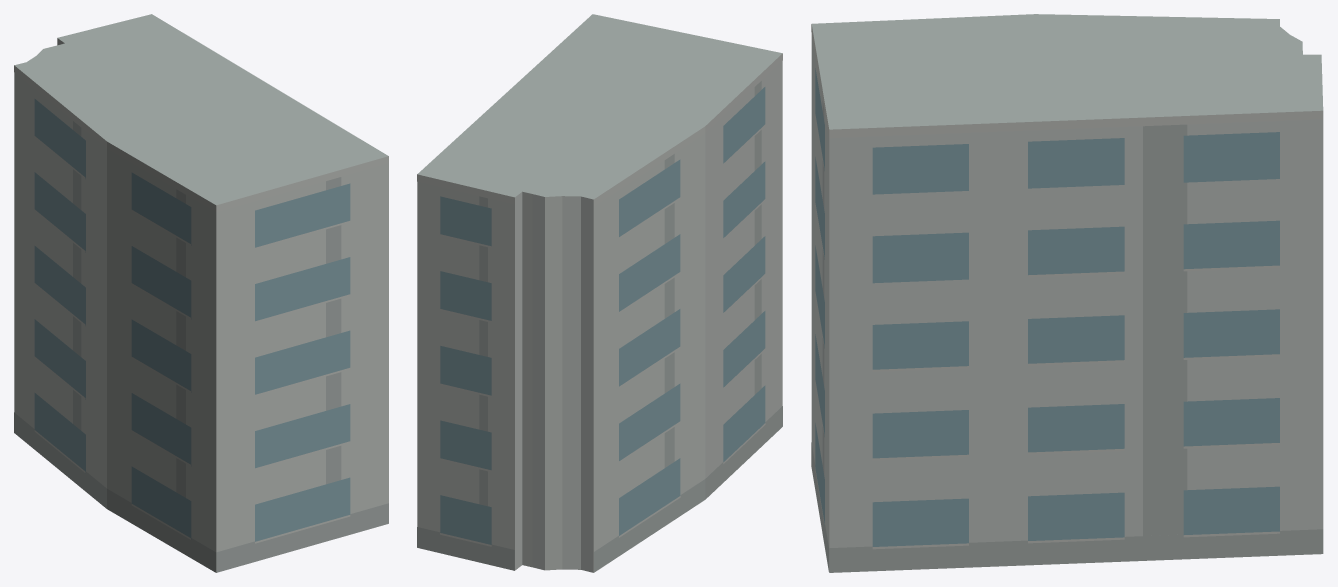
File: survey-upis-32723667.glb
3 renders of one model, left to right at view 1: azimuth 30°, elevation 25°; view 2: azimuth 150°, elevation 25°; view 3: azimuth 270°, elevation 25°, orthographic. The views are drawn at different scales.
Parts seen in each view (by area): view 1: survey-upis-32723667.tmp; view 2: survey-upis-32723667.tmp; view 3: survey-upis-32723667.tmp.
Part boxes in pixels (x1,y1,x2,y2): survey-upis-32723667.tmp: [14, 14, 388, 572]; survey-upis-32723667.tmp: [417, 14, 782, 572]; survey-upis-32723667.tmp: [811, 14, 1323, 572].
Bounding box in the file's own units: 7 × 12.5 × 13.09.
